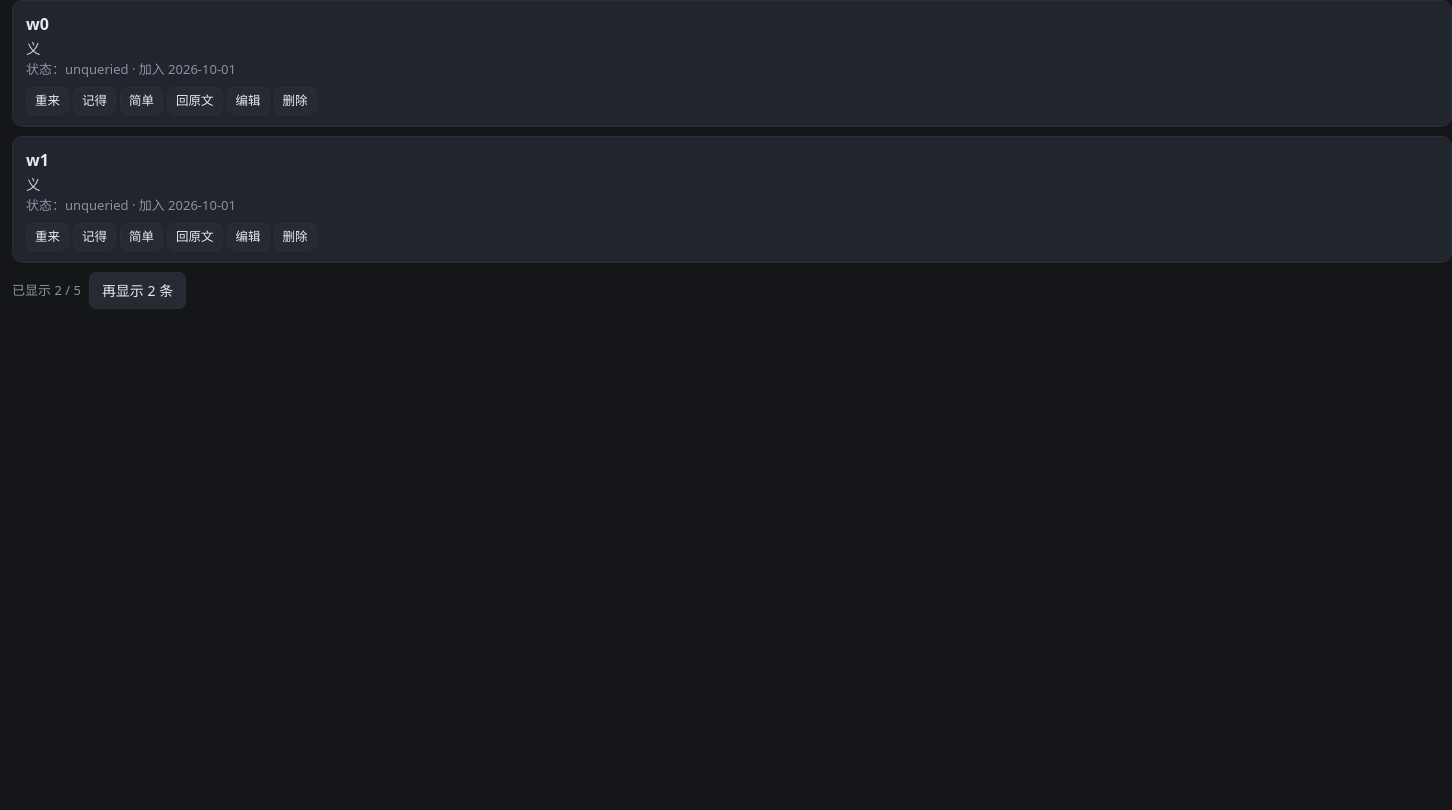
Test: VocabList：全部生词分页 › pageSize：先渲染一页，点「再显示」后继续追加
Expected: the button with aria-label "删除 w0" is shown, x1=274 y1=87 x2=317 y2=115
Expected: the button with aria-label "删除 w1" is shown, x1=274 y1=223 x2=317 y2=251
What coordinates should you click on to do the following:
click the button "再显示 2 条"
I would click on:
 (138, 290)
Its box is x1=89 y1=272 x2=186 y2=309.
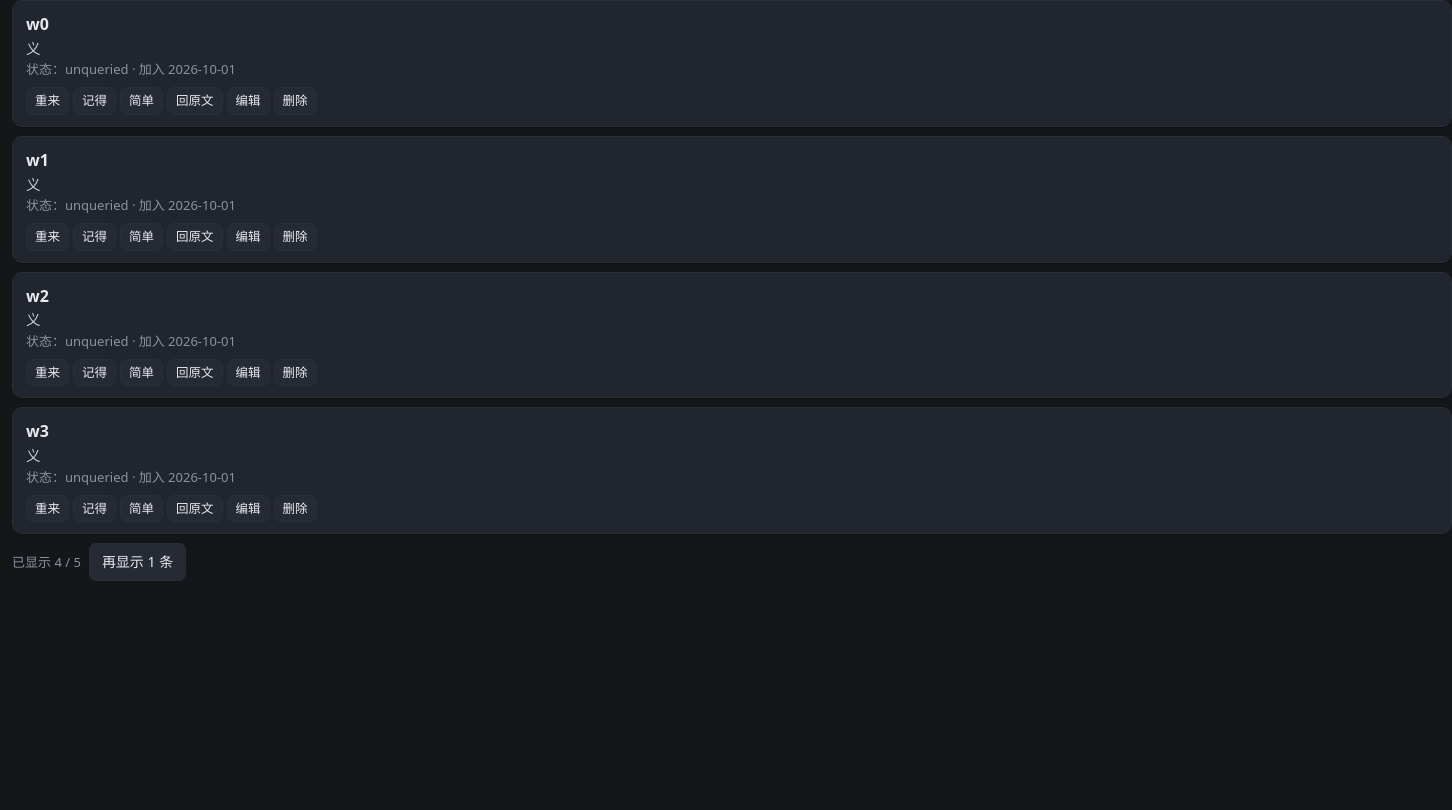
Result: the button with aria-label "删除 w2" is shown at x1=274 y1=359 x2=317 y2=386
